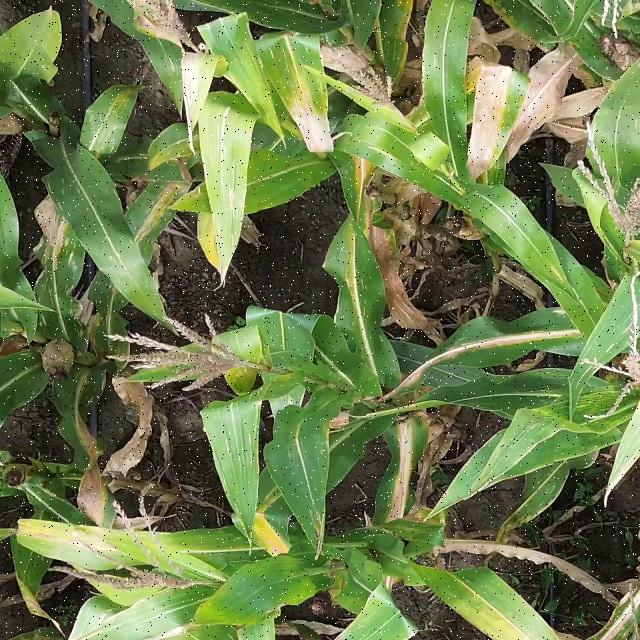gray-leaf-spot: (461, 314, 627, 538), (8, 162, 194, 350), (246, 40, 347, 174), (86, 21, 180, 163), (197, 396, 351, 482), (322, 234, 404, 354)
northern-leaf-blight: (452, 53, 547, 195), (26, 513, 196, 580), (371, 412, 446, 518), (180, 208, 266, 276), (230, 496, 312, 565), (366, 0, 414, 85)
southern-leaf-blight: (471, 2, 627, 83)
